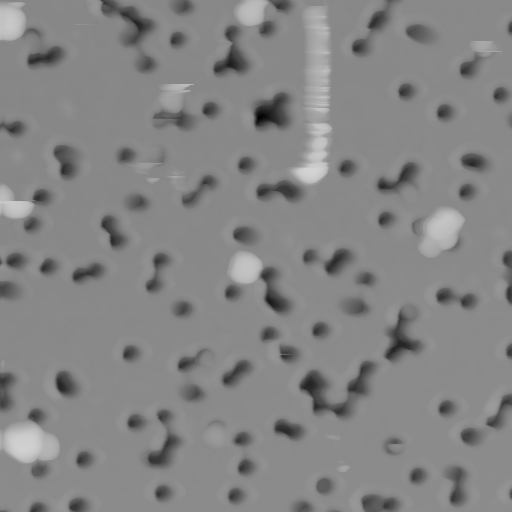Hole: (83, 0, 163, 73), (112, 405, 193, 468), (296, 356, 376, 418), (213, 425, 259, 509), (382, 293, 429, 366), (339, 269, 386, 323), (205, 30, 257, 77), (376, 155, 425, 204), (346, 8, 394, 56), (299, 244, 356, 284), (168, 342, 211, 385), (250, 85, 290, 130), (439, 459, 473, 510), (47, 363, 85, 406), (96, 212, 134, 251), (1, 248, 27, 305), (142, 251, 176, 293), (53, 137, 87, 178), (24, 41, 69, 70), (255, 291, 299, 320), (221, 354, 257, 389), (434, 284, 475, 313), (256, 181, 305, 205), (1, 365, 23, 417), (403, 13, 441, 42), (359, 489, 409, 511), (156, 109, 199, 134), (70, 255, 108, 283), (457, 146, 491, 176), (491, 386, 511, 432), (268, 414, 309, 436), (457, 421, 486, 452), (232, 216, 259, 247), (1, 111, 32, 137), (114, 339, 140, 369), (500, 241, 511, 309), (71, 448, 97, 476), (383, 432, 408, 460), (277, 339, 302, 365), (71, 489, 100, 511), (149, 478, 171, 506), (39, 249, 61, 276), (401, 78, 425, 102), (166, 27, 192, 49), (375, 206, 397, 232), (256, 325, 283, 346), (309, 316, 329, 344), (163, 0, 198, 16), (196, 174, 225, 193), (452, 181, 481, 200), (173, 294, 193, 321), (202, 99, 224, 123), (431, 100, 457, 120), (114, 141, 134, 167), (25, 463, 55, 480), (433, 394, 458, 414), (456, 60, 481, 80), (179, 192, 201, 214), (131, 189, 153, 211), (235, 151, 258, 171), (408, 466, 432, 485), (260, 265, 284, 284), (339, 157, 358, 179), (316, 474, 336, 494), (490, 84, 510, 104), (26, 217, 44, 235), (185, 387, 204, 404), (287, 500, 315, 511), (34, 185, 49, 205), (27, 405, 44, 422), (222, 288, 242, 301), (502, 339, 511, 367), (28, 504, 46, 511)
Particle: (413, 200, 468, 261), (1, 423, 65, 464), (224, 248, 271, 286), (1, 0, 28, 46), (232, 0, 267, 24)
Smear: (289, 3, 338, 184), (1, 190, 41, 222), (159, 78, 195, 111), (469, 34, 502, 58), (128, 156, 163, 174), (167, 165, 189, 191), (325, 429, 343, 441)
